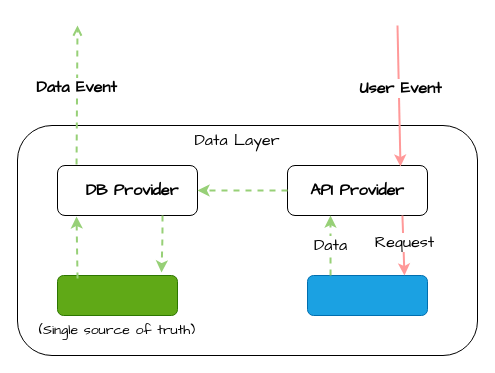
Image size: 495x373. Some labels were removed from this diagram. The centre of each missing label's shape, as x and y in pixels:
Local DB: (117,295)
Network: (367,295)
